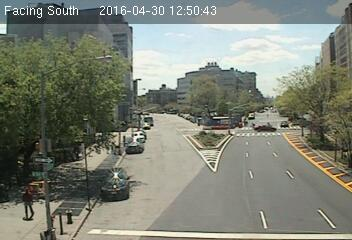neg: (238, 67, 268, 107), (136, 88, 166, 127), (182, 95, 211, 134), (130, 29, 158, 66), (241, 177, 269, 213), (132, 180, 159, 215), (245, 122, 268, 152), (51, 112, 73, 143), (106, 86, 128, 116), (306, 72, 328, 102), (35, 81, 57, 110), (72, 69, 93, 96), (185, 170, 205, 197), (273, 156, 293, 183), (197, 25, 216, 51), (213, 203, 232, 229), (81, 168, 99, 193), (61, 207, 79, 230), (107, 150, 125, 173), (209, 144, 226, 166), (210, 68, 223, 85), (86, 24, 98, 41), (279, 50, 290, 65)
pos: (13, 179, 45, 222)
